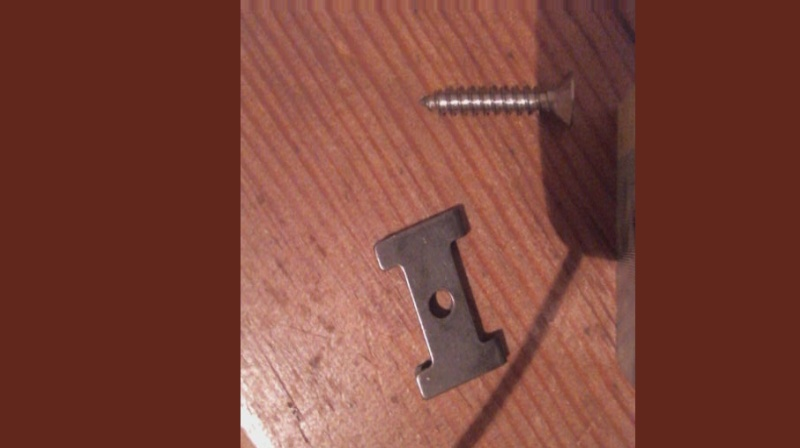O002: (370, 202, 510, 403)
S001: (418, 65, 581, 126)
